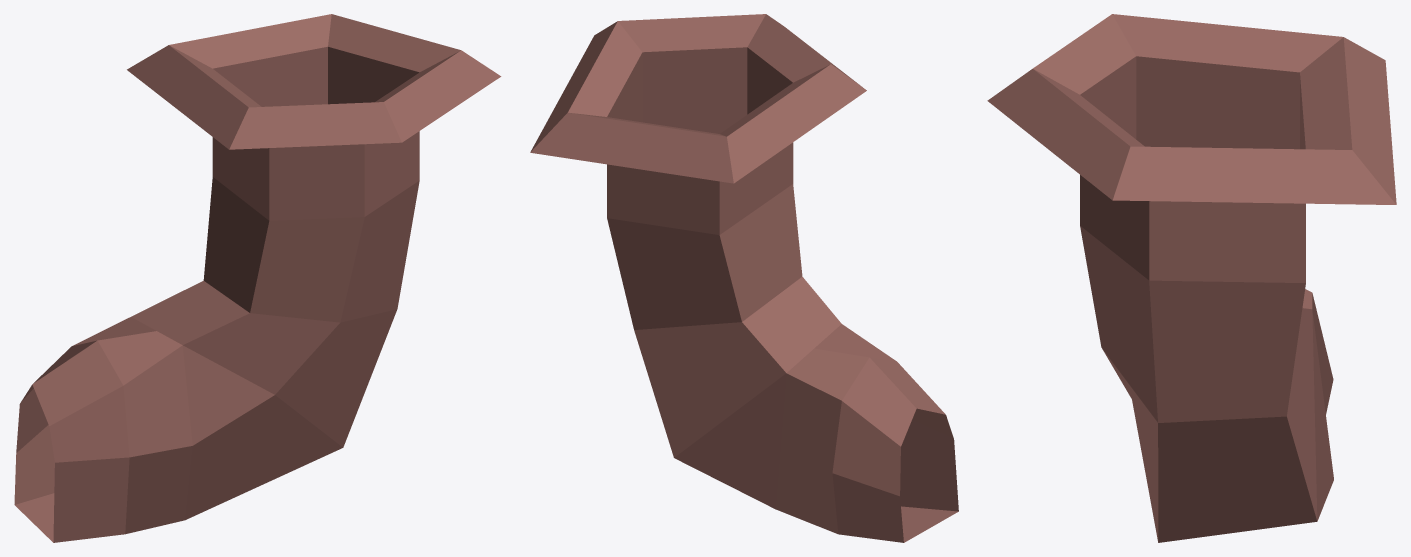
The model's file is Tunnel-F04.fbx.
3 views of the same model, side by side, from view 1: azimuth 30°, elevation 25°; view 2: azimuth 150°, elevation 25°; view 3: azimuth 270°, elevation 25° (orthographic). The views are drawn at different scales.
Parts seen in each view (by area): view 1: Tunnel-F04; view 2: Tunnel-F04; view 3: Tunnel-F04.
Part boxes in pixels (x1,y1,x2,y2): Tunnel-F04: (14, 14, 501, 542); Tunnel-F04: (530, 14, 958, 542); Tunnel-F04: (987, 14, 1396, 542).
Size of the model in its own units: 831 by 817 by 581.
